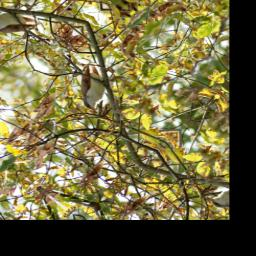Cuckoo: (54, 59, 125, 118)
